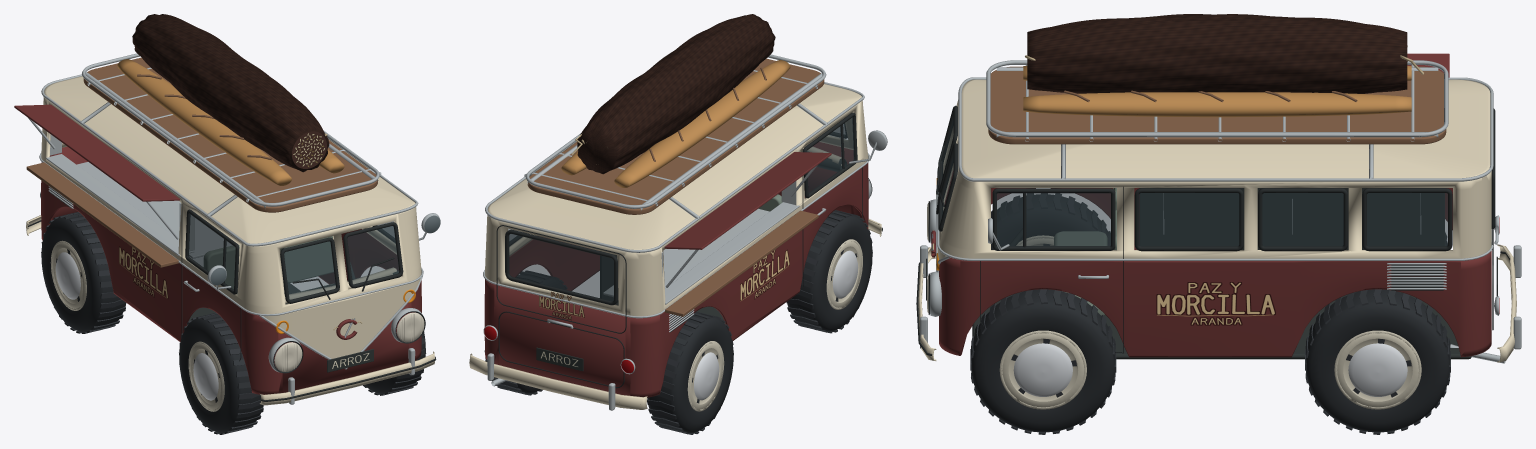
File: morcilloneta.glb
3 views of the same model, side by side, from view 1: azimuth 30°, elevation 25°; view 2: azimuth 150°, elevation 25°; view 3: azimuth 270°, elevation 25° (orthographic). The views are drawn at different scales.
Visible parts, largest first — view 1: T1_own_lower_continuous_arch_cage, giant_morcilla_own_pleated_cage, T1_shallow_closed_roof_crown_cage, T1_own_aperture_and_pillar_cage, roof_serving_tray, wheel_fr, wheel_rr, glass_f6, cream_V_nose_flush_surface_cage, rustic_bread_half_-1, painted_service_canopy, service_wood_counter (+21 smaller); view 2: T1_own_lower_continuous_arch_cage, giant_morcilla_own_pleated_cage, T1_shallow_closed_roof_crown_cage, T1_own_aperture_and_pillar_cage, roof_serving_tray, wheel_rr, wheel_fr, glass_f6, rustic_bread_half_-1, painted_service_canopy, service_wood_counter, rear_pressed_bumper (+15 smaller); view 3: T1_own_lower_continuous_arch_cage, giant_morcilla_own_pleated_cage, T1_shallow_closed_roof_crown_cage, glass_f6, wheel_fl, wheel_rl, T1_own_aperture_and_pillar_cage, roof_serving_tray, kitchen_backwall, rustic_bread_half_1, wheel_fr, tray_rolled_edge (+12 smaller).
Part boxes in pixels (x1,y1,x2,y2): T1_own_lower_continuous_arch_cage: (41,146,421,394); giant_morcilla_own_pleated_cage: (132,14,329,172); T1_shallow_closed_roof_crown_cage: (44,76,415,243); T1_own_aperture_and_pillar_cage: (41,97,421,314); roof_serving_tray: (83,57,377,212); wheel_fr: (179,312,263,434); wheel_rr: (41,212,126,333); glass_f6: (188,214,440,299); cream_V_nose_flush_surface_cage: (263,278,420,358); rustic_bread_half_-1: (117,59,291,185); painted_service_canopy: (14,104,179,201); service_wood_counter: (26,162,178,267); T1_own_lower_continuous_arch_cage: (484,142,868,397); giant_morcilla_own_pleated_cage: (577,14,775,174); T1_shallow_closed_roof_crown_cage: (488,84,861,249); T1_own_aperture_and_pillar_cage: (485,100,868,317); roof_serving_tray: (527,58,824,214); wheel_rr: (647,311,733,434); wheel_fr: (786,210,872,333); glass_f6: (508,117,854,301); rustic_bread_half_-1: (614,60,790,187); painted_service_canopy: (664,152,831,249); service_wood_counter: (665,210,818,316); rear_pressed_bumper: (469,353,647,409); T1_own_lower_continuous_arch_cage: (939,171,1491,357); giant_morcilla_own_pleated_cage: (1027,14,1407,93); T1_shallow_closed_roof_crown_cage: (961,79,1490,178); glass_f6: (941,119,1447,246); wheel_fl: (970,289,1116,434); wheel_rl: (1305,289,1450,434); T1_own_aperture_and_pillar_cage: (939,100,1491,258); roof_serving_tray: (988,66,1446,144); kitchen_backwall: (1140,188,1444,249); rustic_bread_half_1: (1023,92,1411,117); wheel_fr: (991,193,1110,249); tray_rolled_edge: (986,60,1448,137).
Size of the model in its own units: 2.49 by 2.97 by 4.52.
Materials: 24 (3 with a texture image).
